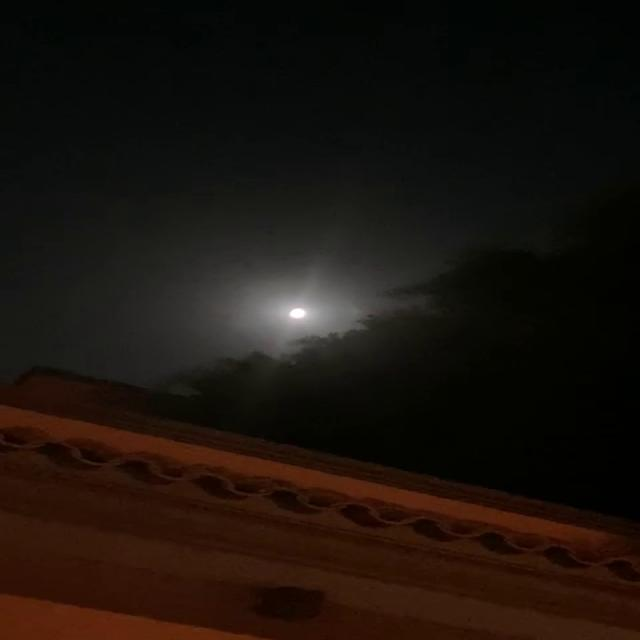moon: (274, 304, 329, 330)
